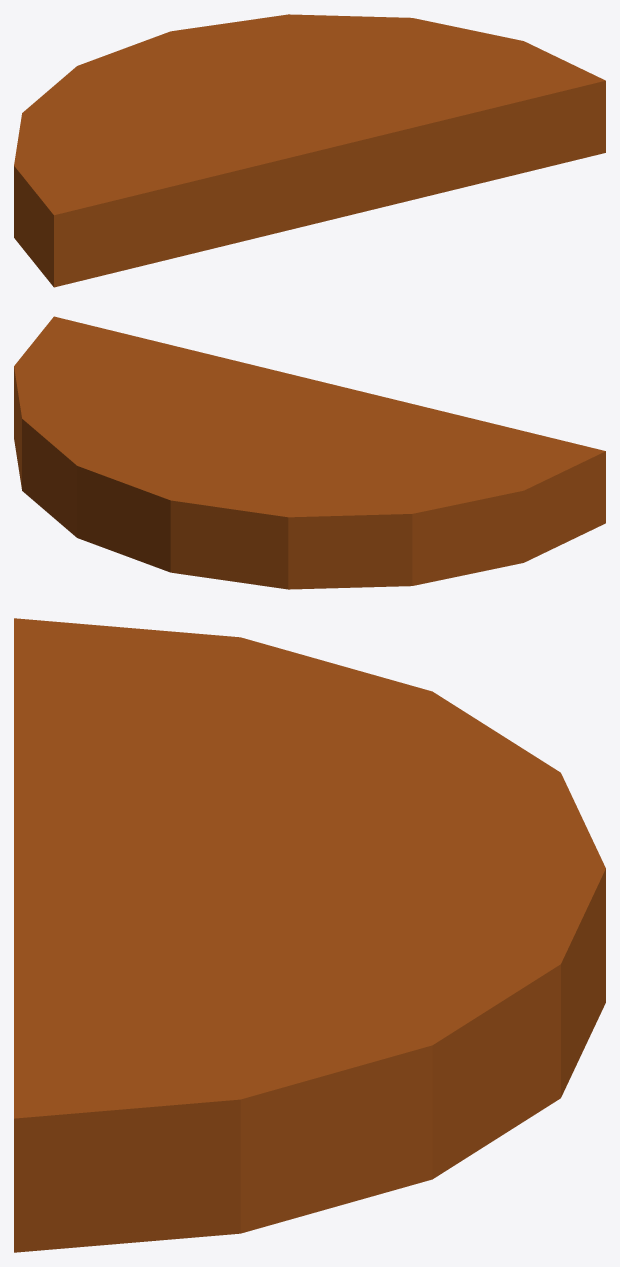
File: halftable.glb
3 views of the same model, one above another, from view 1: azimuth 30°, elevation 25°; view 2: azimuth 150°, elevation 25°; view 3: azimuth 270°, elevation 25° (orthographic). The views are drawn at different scales.
Visible parts, largest first — view 1: Circle; view 2: Circle; view 3: Circle.
Boxes of the visible parts, box(x1,y1,x2,y2) form: Circle: box(14, 14, 605, 287); Circle: box(14, 316, 605, 589); Circle: box(14, 618, 605, 1252).
Size of the model in its own units: 4 by 0.5 by 2.
